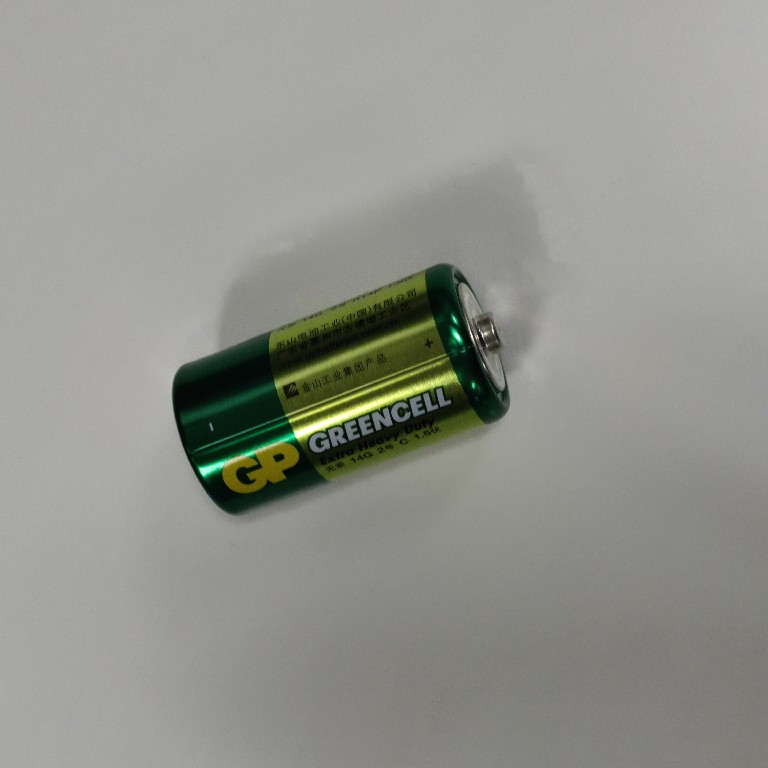charge: (163, 259, 517, 521)
